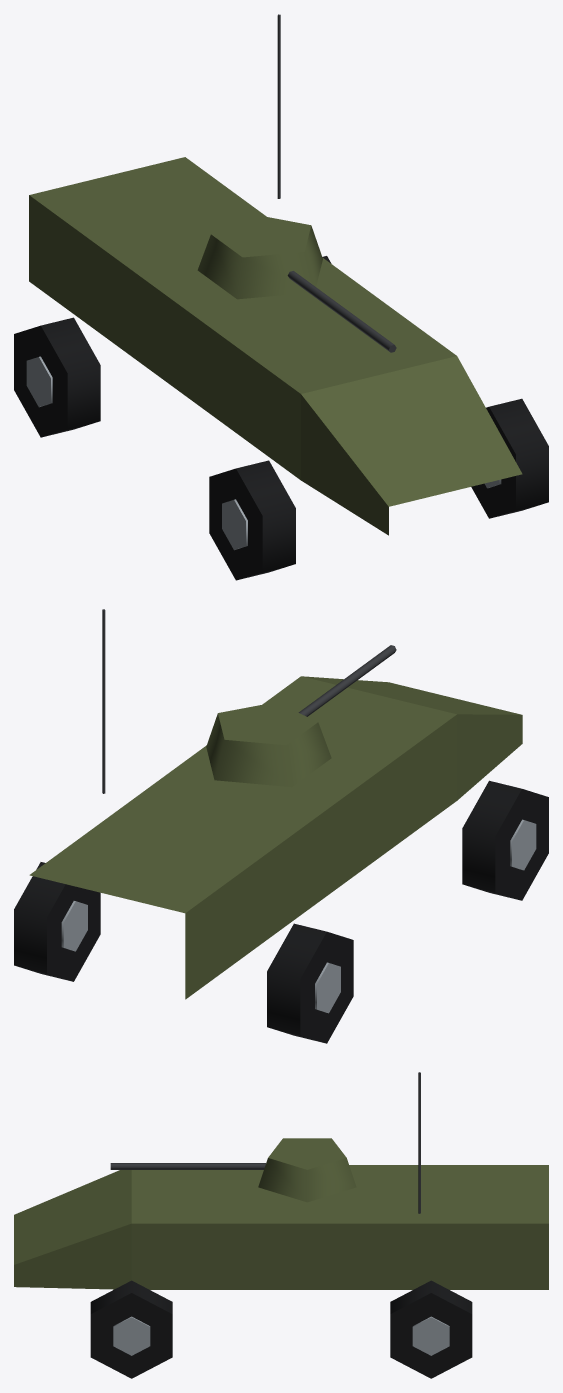
The model's file is veh_ground_scout_car_a06_lod1.glb.
The picture shows the model from 3 angles, top to bottom: view 1: azimuth 30°, elevation 25°; view 2: azimuth 150°, elevation 25°; view 3: azimuth 270°, elevation 25°; orthographic projection. The views are drawn at different scales.
Visible parts, largest first — view 1: body, turret, wheel_2, wheel_0, wheel_3; view 2: body, turret, wheel_0, wheel_2, wheel_1; view 3: body, wheel_1, wheel_3, turret.
Boxes of the visible parts, <box> form: body: <box>29,14,522,535</box>; turret: <box>197,214,396,352</box>; wheel_2: <box>209,460,295,580</box>; wheel_0: <box>14,317,100,437</box>; wheel_3: <box>471,398,548,518</box>; body: <box>29,609,522,999</box>; turret: <box>206,645,396,787</box>; wheel_0: <box>267,923,353,1043</box>; wheel_2: <box>462,780,548,900</box>; wheel_1: <box>14,862,100,981</box>; body: <box>14,1072,548,1289</box>; wheel_1: <box>390,1280,472,1378</box>; wheel_3: <box>90,1280,172,1378</box>; turret: <box>110,1138,356,1202</box>.
Bounding box in the file's own units: 2.98 × 3.65 × 6.2.
